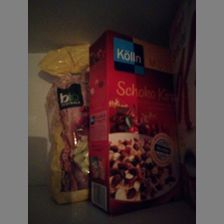cereal: (89, 29, 182, 213), (36, 44, 93, 205)
